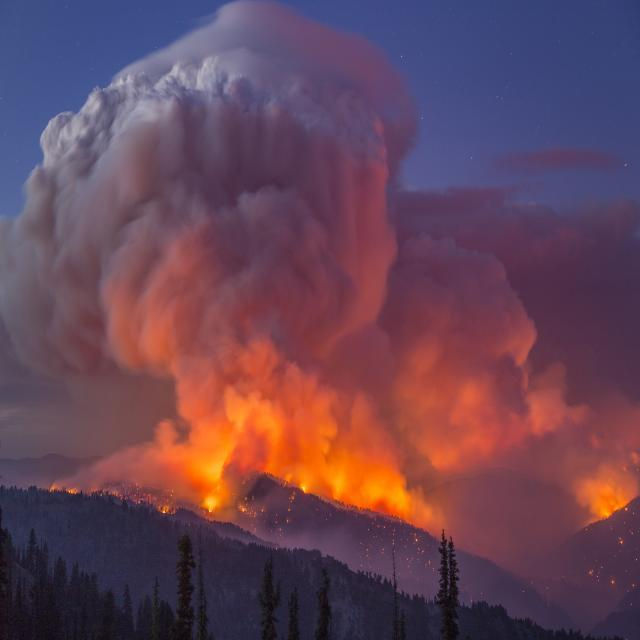Fire: (196, 476, 225, 526)
Smoke: (0, 0, 640, 559)
